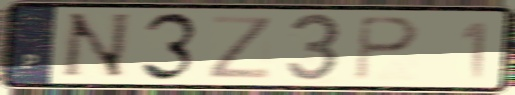1: (459, 19, 488, 80)
3: (133, 10, 204, 83), (285, 10, 344, 87)
N: (55, 11, 134, 82)
P: (352, 14, 423, 83)
Z: (204, 14, 276, 80)
